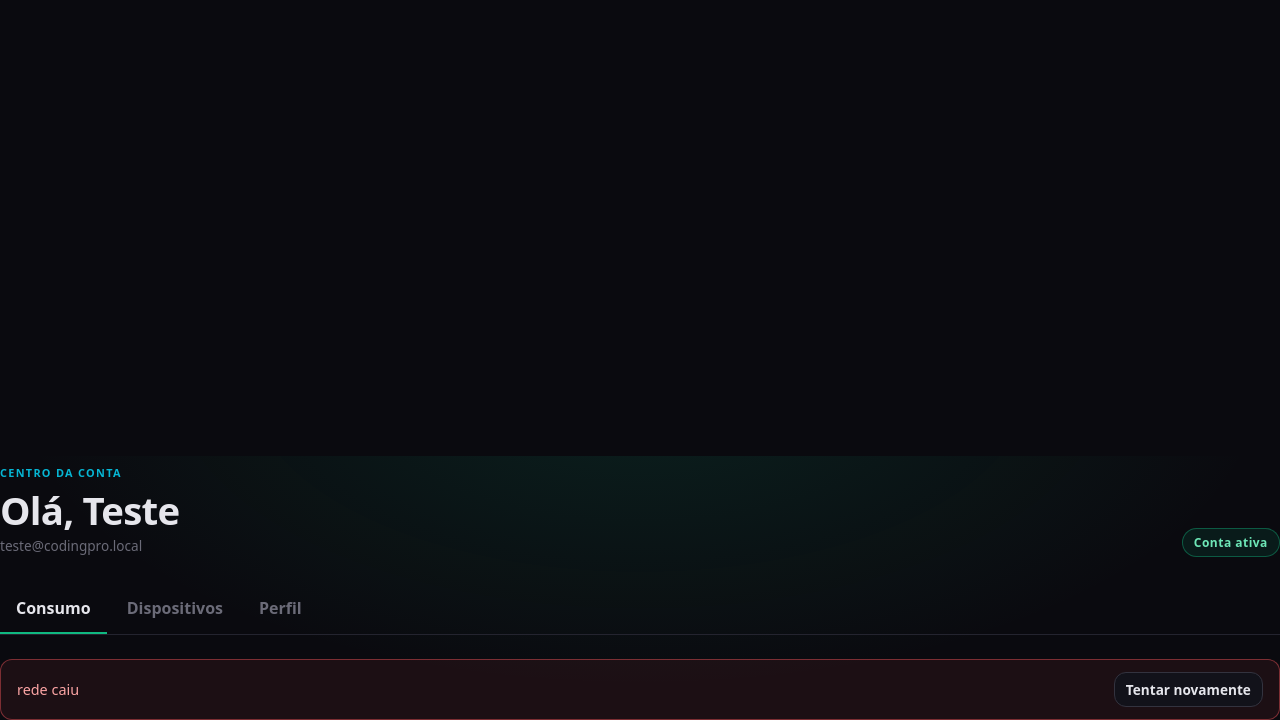
Test: Painel — consumo e dispositivos (W2/W3/W5/W6) › oferece tentar novamente quando o consumo falha
(page scrolled)
Click the button "Tentar novamente".
click(1188, 690)  # box [1114,672,1263,707]
(page scrolled)
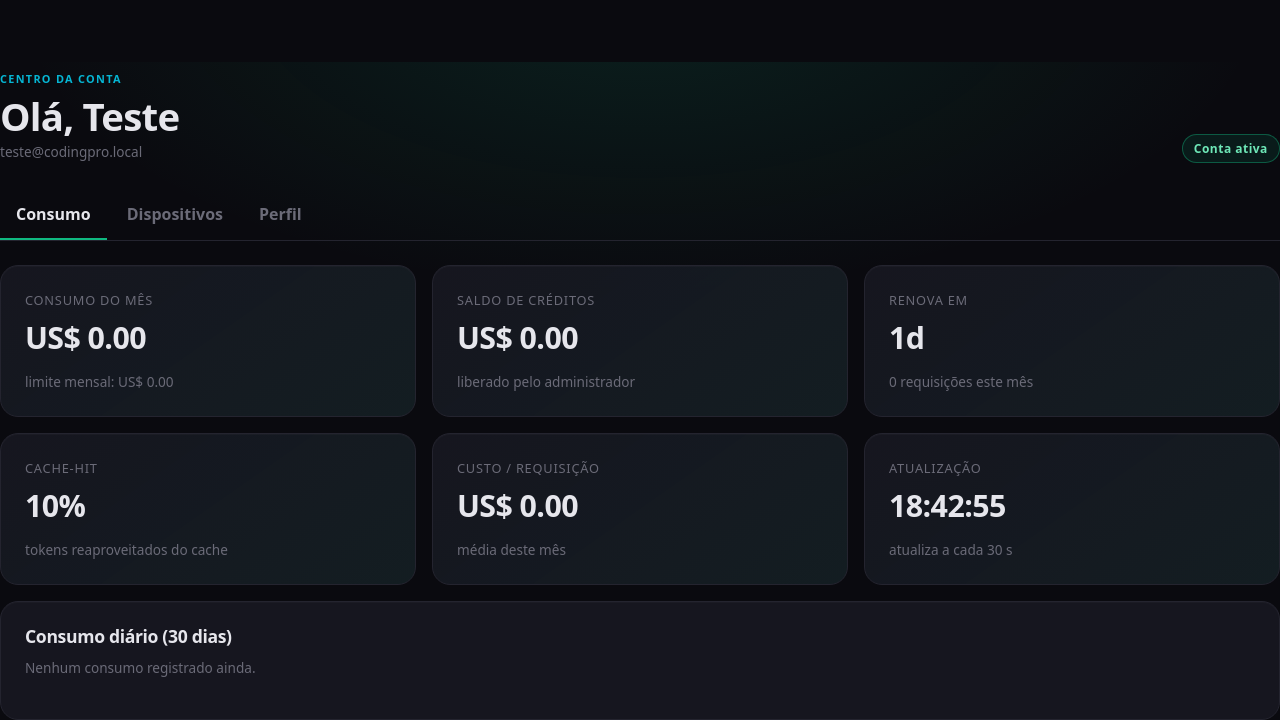
Expected: the text "Cache-hit" is shown, [25,459,98,477]
